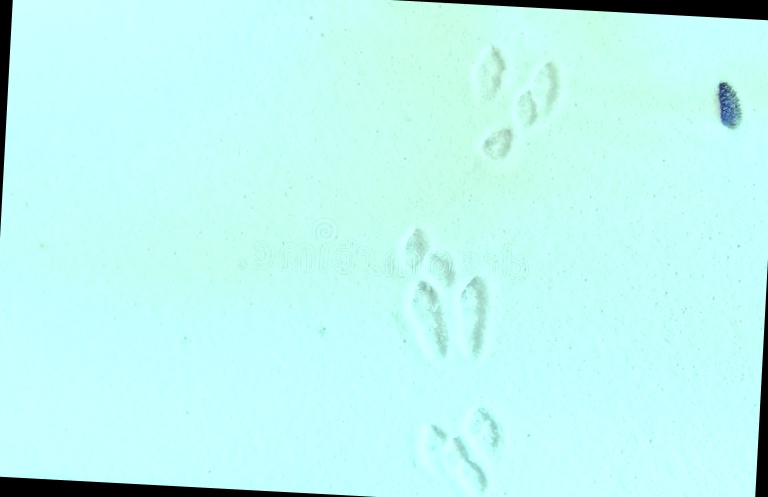lapin: (260, 209, 373, 363), (201, 32, 320, 163), (245, 385, 350, 496)
